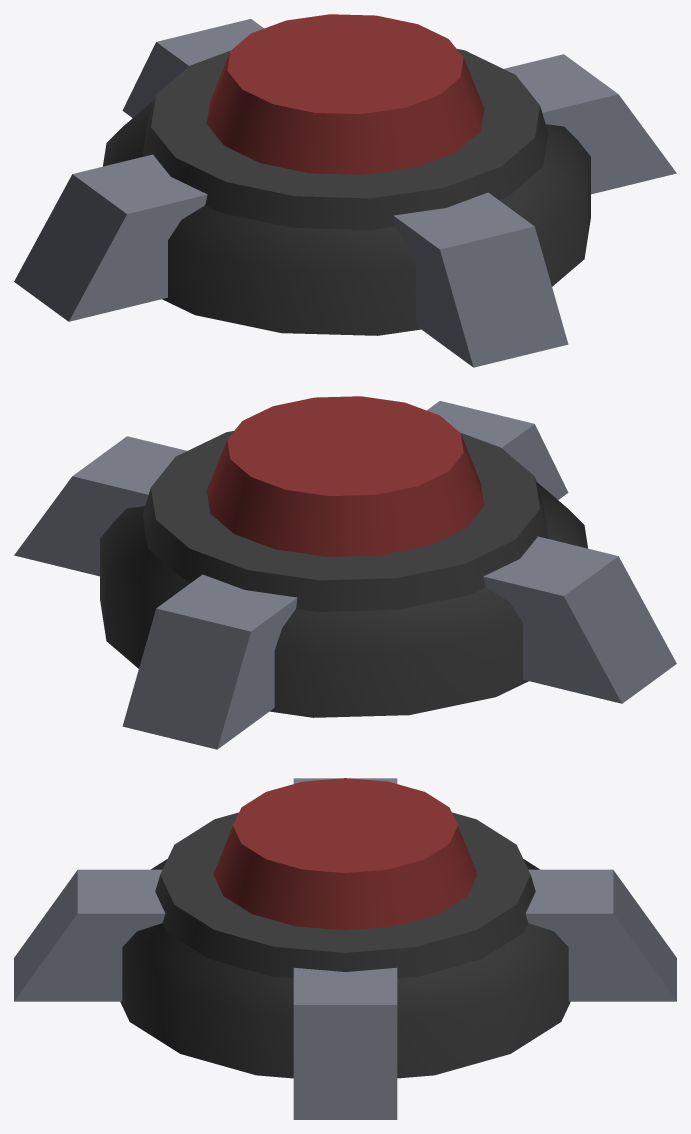
The model's file is Landmine.glb.
3 renders of one model, top to bottom at view 1: azimuth 30°, elevation 25°; view 2: azimuth 150°, elevation 25°; view 3: azimuth 270°, elevation 25°, orthographic. The views are drawn at different scales.
Parts seen in each view (by area): view 1: Landmine; view 2: Landmine; view 3: Landmine.
Part boxes in pixels (bbox=[...]): Landmine: bbox=[14, 14, 676, 367]; Landmine: bbox=[14, 396, 676, 749]; Landmine: bbox=[14, 778, 676, 1119].
Size of the model in its own units: 0.3568 by 0.0941 by 0.3568.
